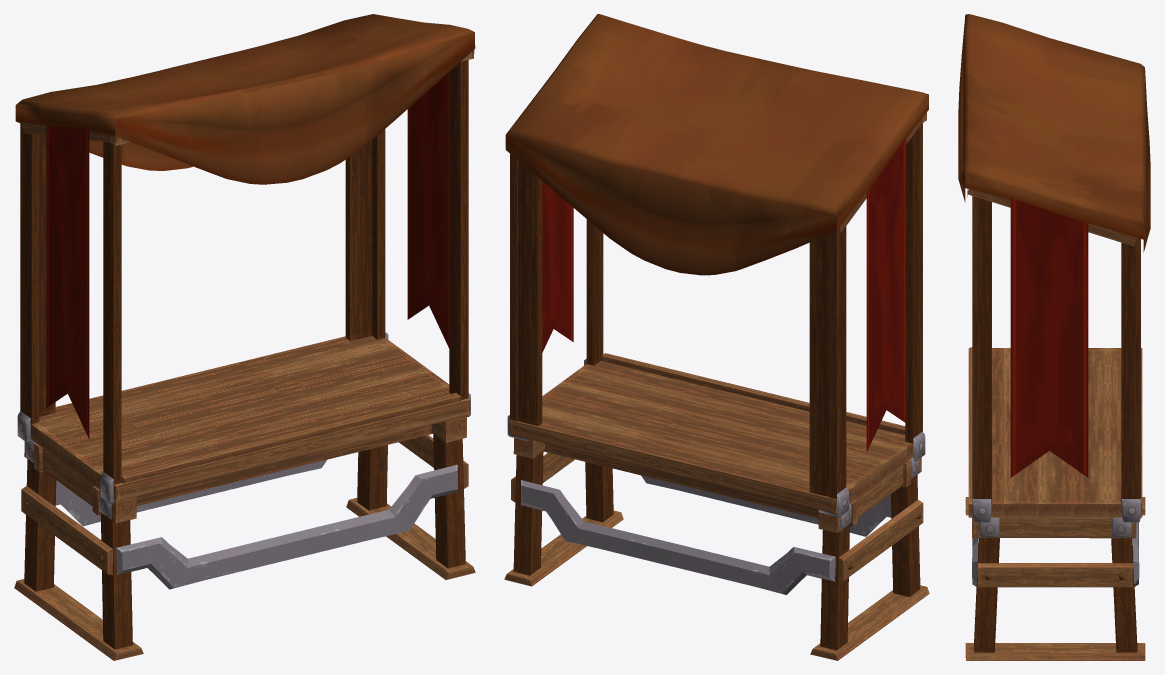
File: Stall_Empty.gltf
3 views of the same model, side by side, from view 1: azimuth 30°, elevation 25°; view 2: azimuth 150°, elevation 25°; view 3: azimuth 270°, elevation 25° (orthographic). The views are drawn at different scales.
Parts seen in each view (by area): view 1: Stall_Empty; view 2: Stall_Empty; view 3: Stall_Empty.
Part boxes in pixels (x1=…): Stall_Empty: x1=14, y1=14, x2=475, y2=660; Stall_Empty: x1=504, y1=14, x2=929, y2=660; Stall_Empty: x1=958, y1=14, x2=1150, y2=660.
Bounding box in the file's own units: 1.84 × 2.63 × 0.9324.
3 materials, 3 textured.
